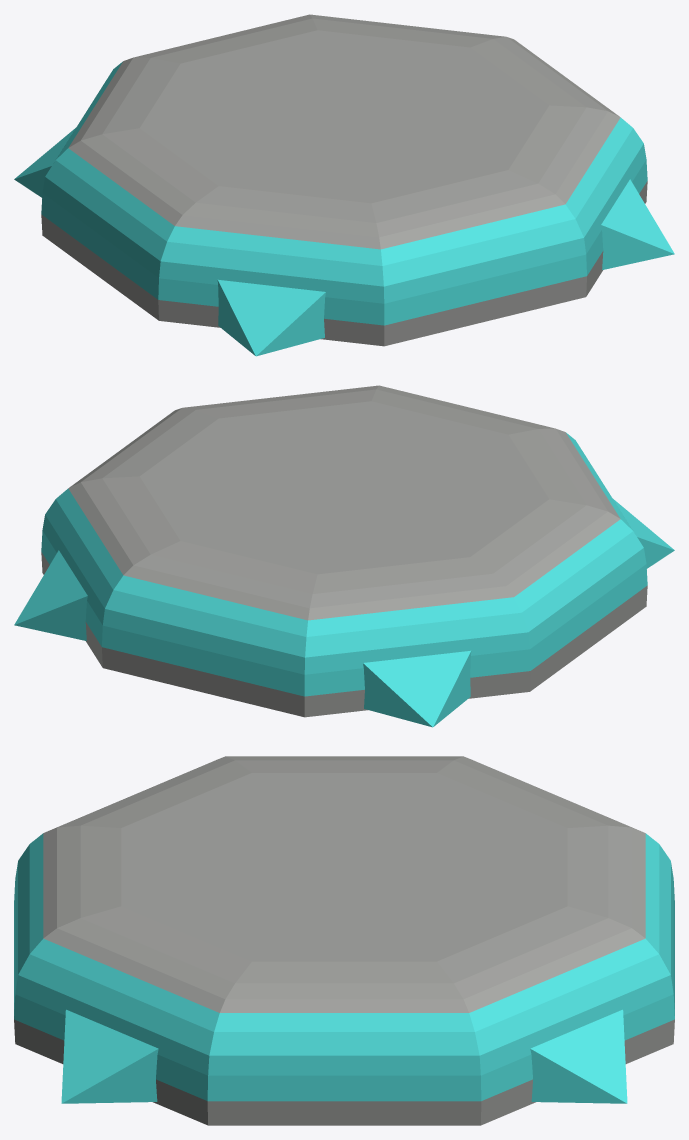
File: base_ice.fbx
The picture shows the model from 3 angles, top to bottom: view 1: azimuth 30°, elevation 25°; view 2: azimuth 150°, elevation 25°; view 3: azimuth 270°, elevation 25°; orthographic projection. The views are drawn at different scales.
Visible parts, largest first — view 1: Circle.001; view 2: Circle.001; view 3: Circle.001.
Boxes of the visible parts, left/top/right/bottom form: Circle.001: left=14, top=14, right=674, bottom=356; Circle.001: left=14, top=385, right=674, bottom=727; Circle.001: left=14, top=756, right=674, bottom=1125.
Bounding box in the file's own units: 185 × 36.92 × 185.
Materials: 1 (1 with a texture image).
